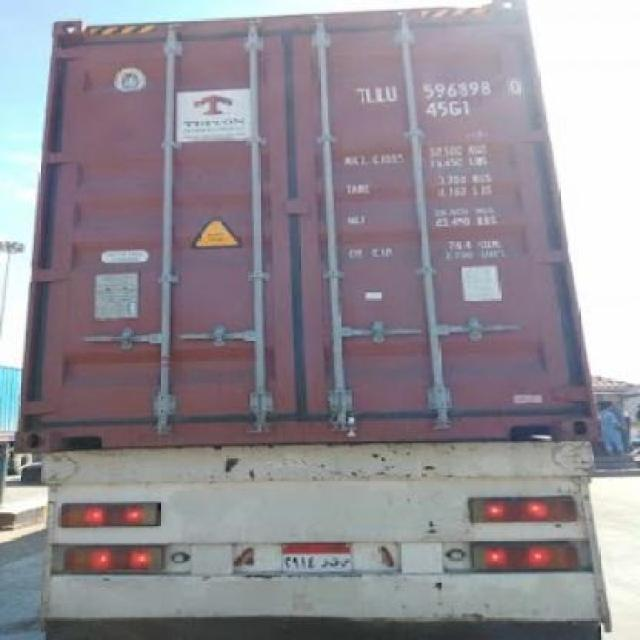ISO: (424, 103, 472, 119)
container_number: (362, 79, 526, 100)
